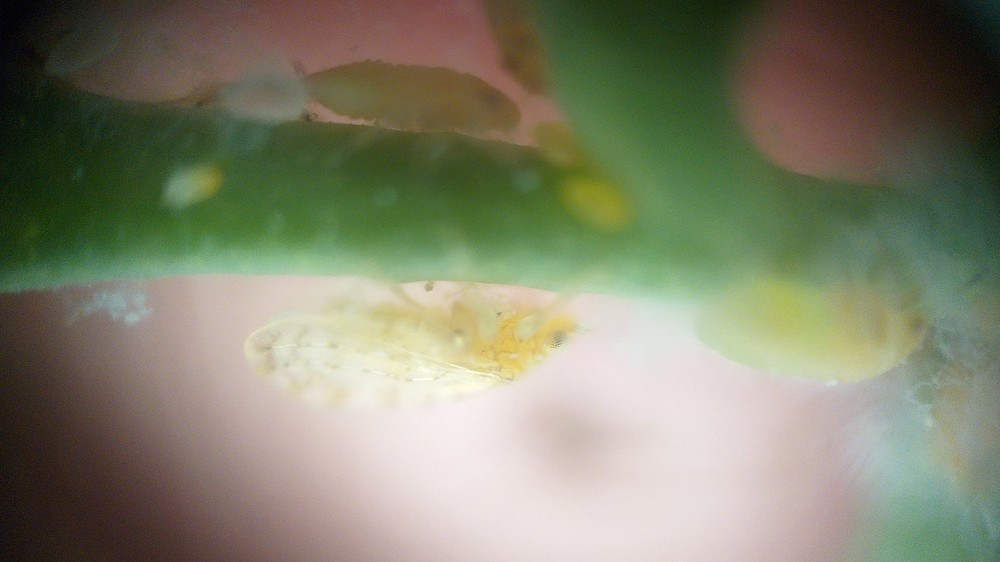Mosca Blanca: (224, 235, 617, 442)
